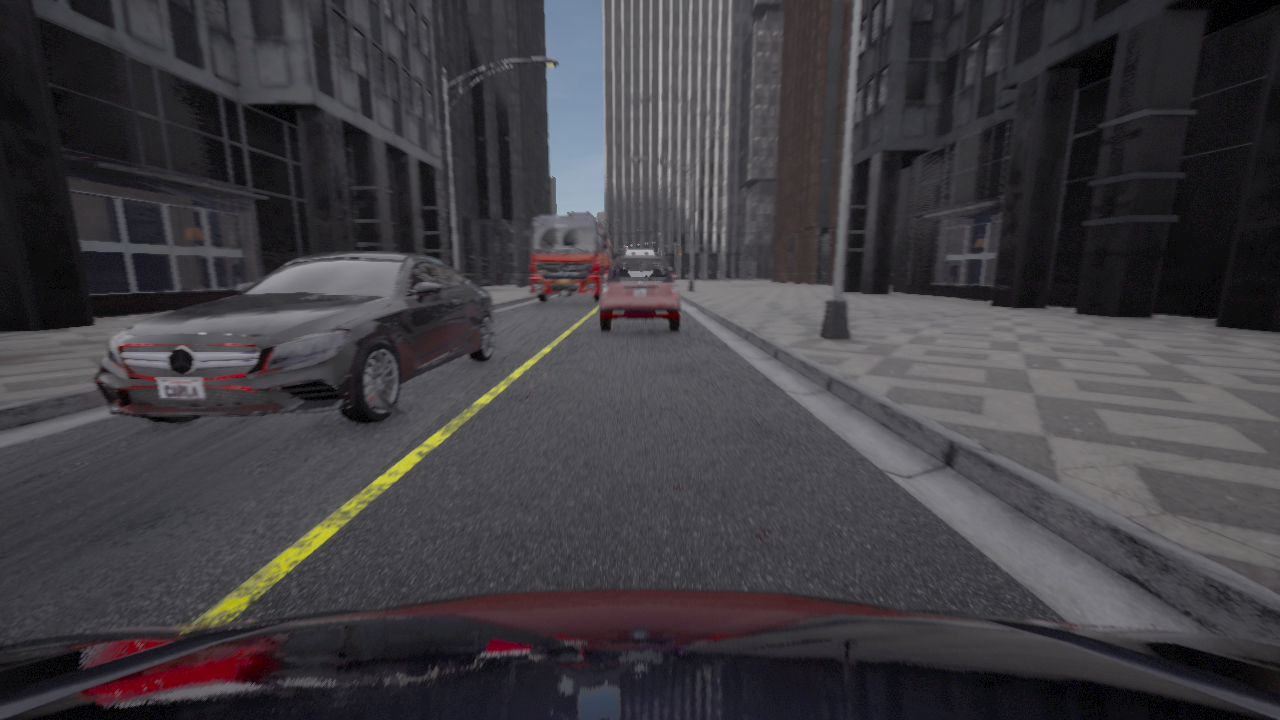cyclist: (0, 588, 1279, 719), (94, 251, 504, 423), (524, 211, 611, 301), (599, 255, 680, 330), (624, 248, 655, 255)
